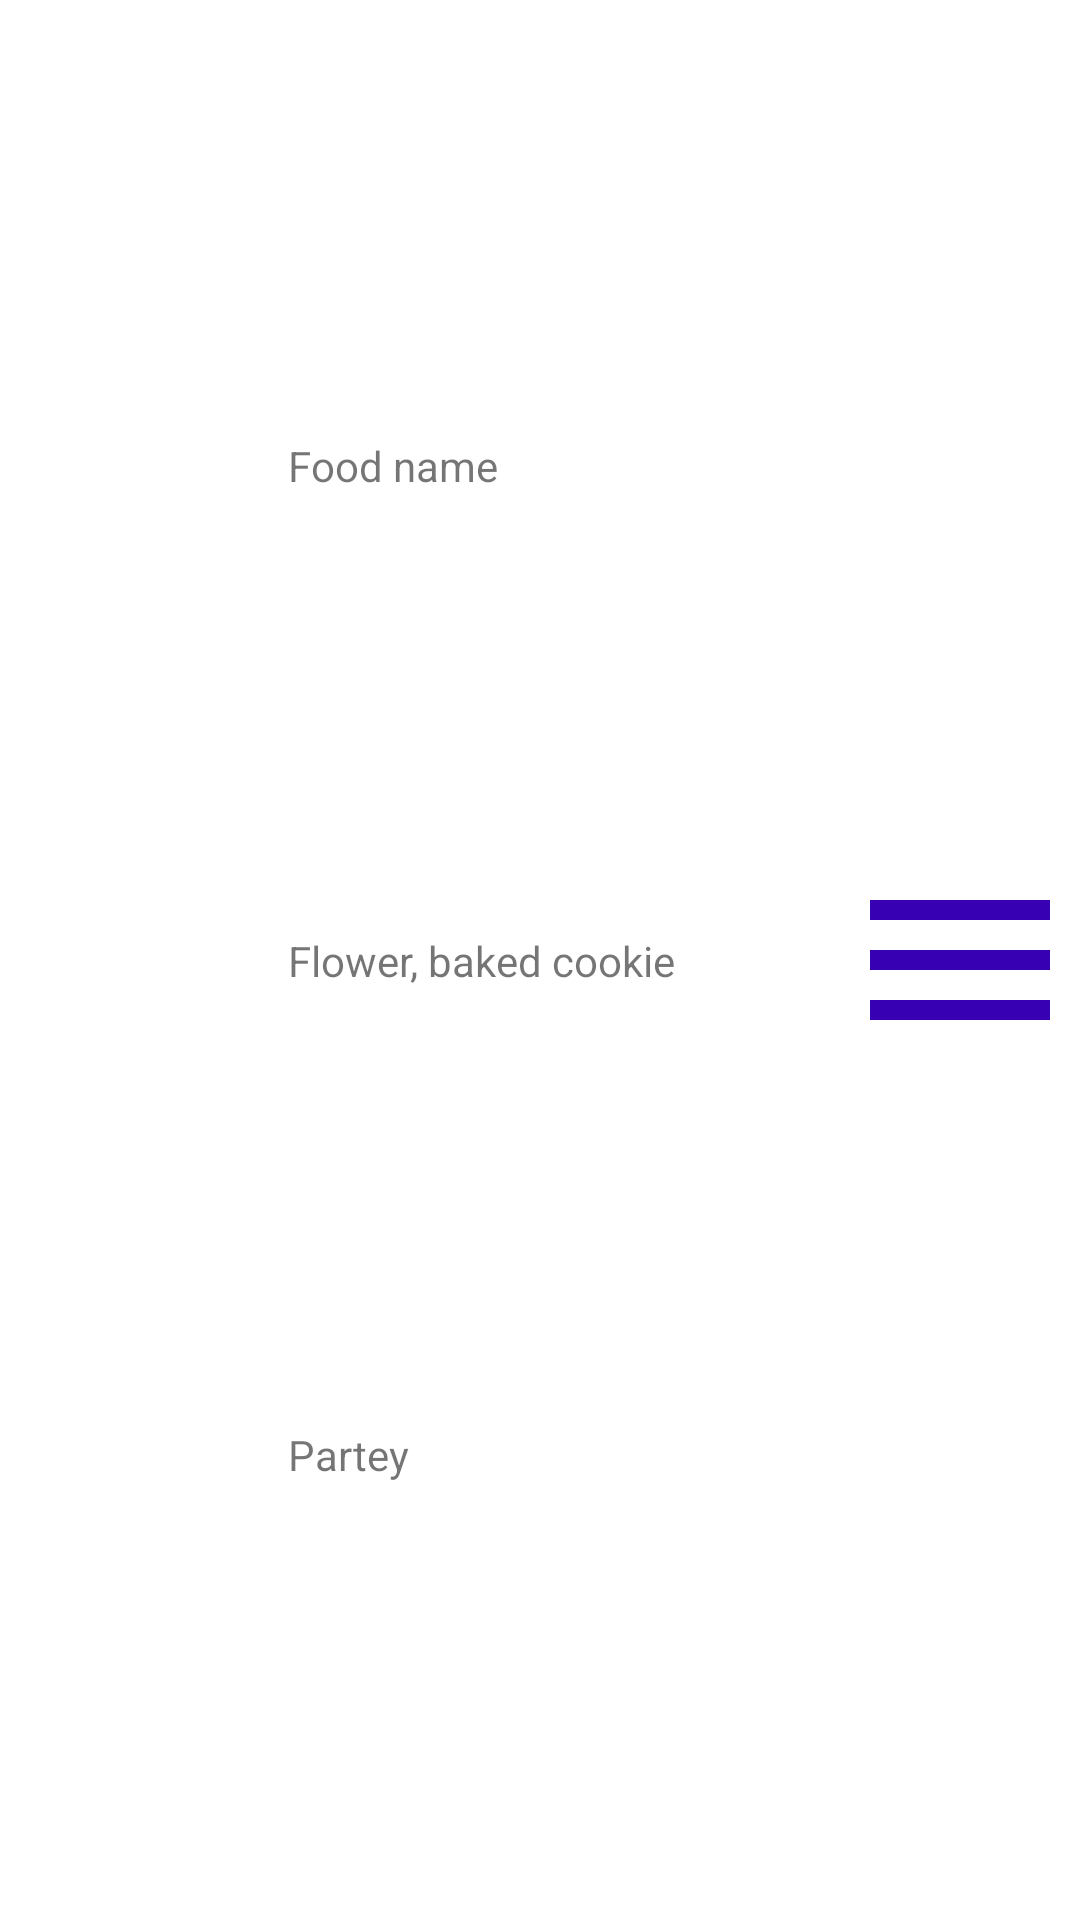

Point at icon controls on the screen. Image size 1080 x 1920, points as (x=x, y=y).
menu: (x=960, y=960)
